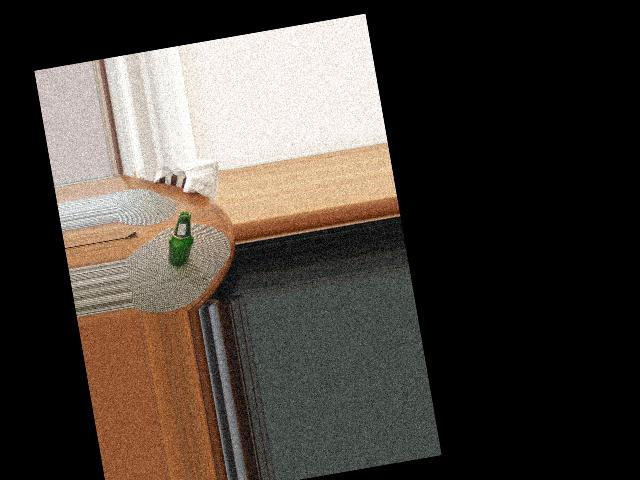beer: (161, 212, 197, 267)
